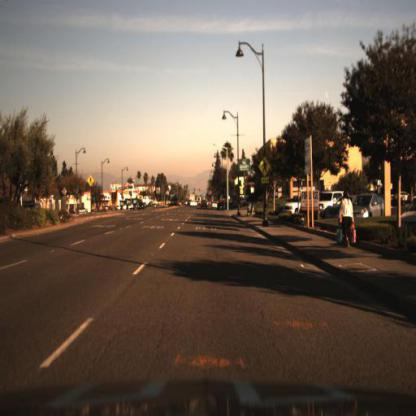car: (315, 188, 346, 218), (283, 194, 302, 217)
pedestrian: (337, 192, 356, 250)
